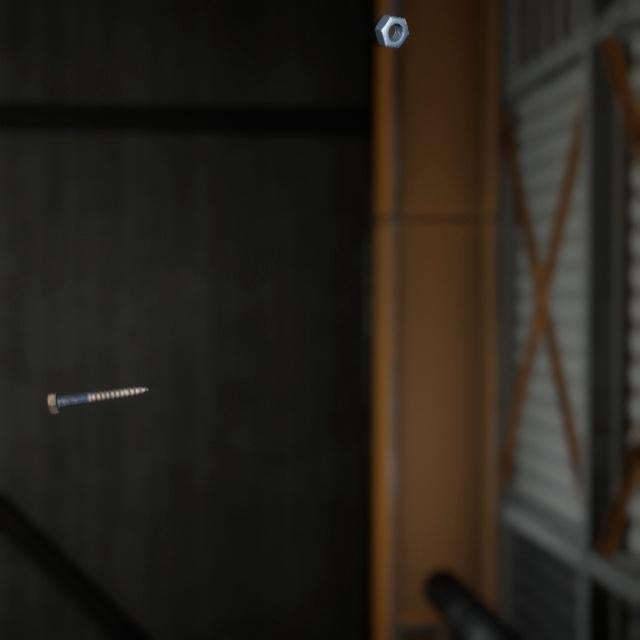bolt: (42, 362, 153, 399)
nut: (370, 3, 413, 45)
